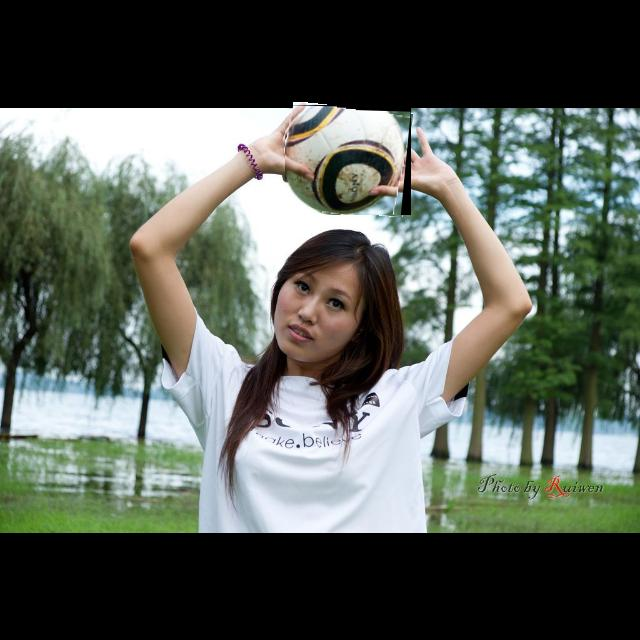Football: (285, 105, 411, 215)
